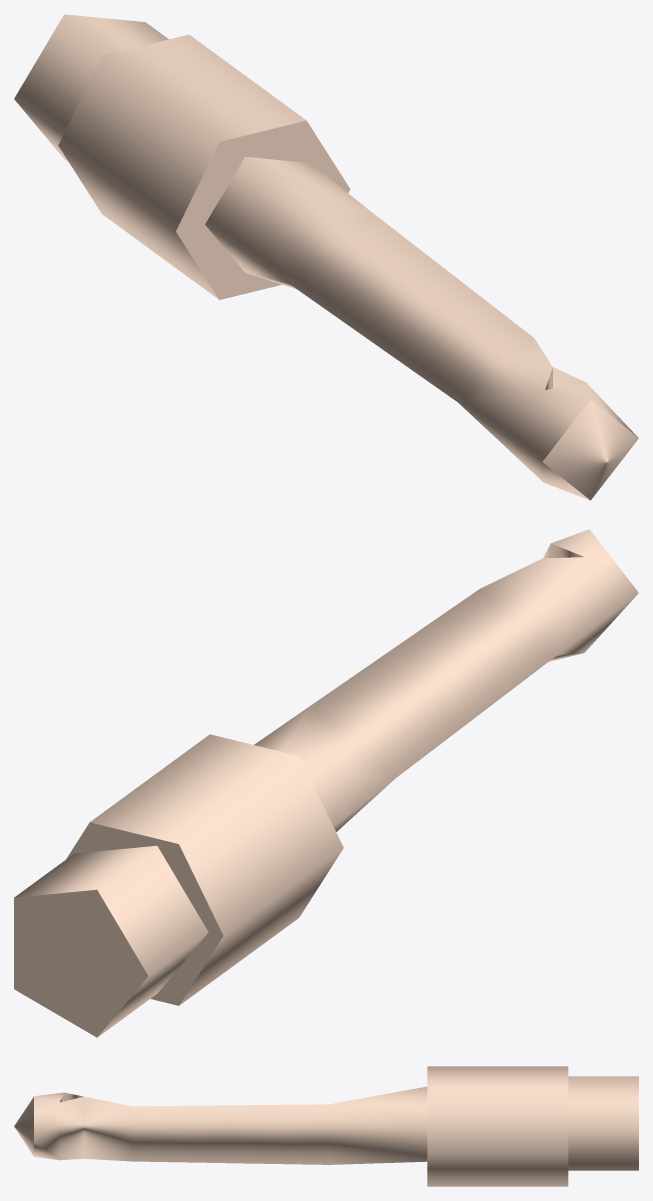
The model's file is Pied de limacon - axe.obj.
3 renders of one model, top to bottom at view 1: azimuth 30°, elevation 25°; view 2: azimuth 150°, elevation 25°; view 3: azimuth 270°, elevation 25°, orthographic. The views are drawn at different scales.
Visible parts, largest first — view 1: Face_3, Face_5, Face_4, Face_7, Face_2; view 2: Face_3, Face_5, Face_1, Face_7, Face_6; view 3: Face_3, Face_5, Face_7, Face_2.
Part boxes in pixels (<box>): Face_3: <box>205,157,638,500</box>; Face_5: <box>58,34,306,299</box>; Face_4: <box>176,120,350,299</box>; Face_7: <box>14,14,168,161</box>; Face_2: <box>542,400,638,500</box>; Face_3: <box>254,529,638,831</box>; Face_5: <box>90,734,343,1005</box>; Face_1: <box>14,889,148,1037</box>; Face_7: <box>14,845,208,1037</box>; Face_6: <box>66,822,223,1005</box>; Face_3: <box>34,1086,427,1164</box>; Face_5: <box>427,1066,568,1186</box>; Face_7: <box>568,1076,638,1170</box>; Face_2: <box>14,1097,33,1155</box>.
Size of the model in its own units: 0.006 by 0.0052 by 0.031.
